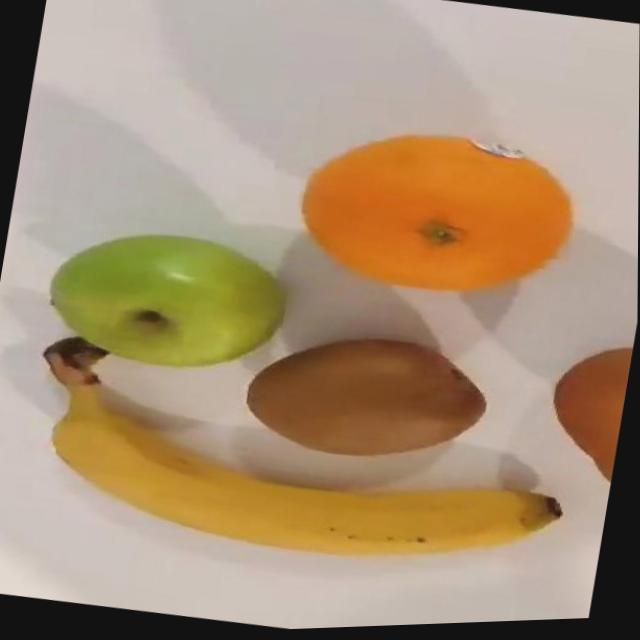Apple: (41, 217, 288, 382)
Banana: (39, 381, 571, 602)
Orange: (291, 115, 586, 318)
